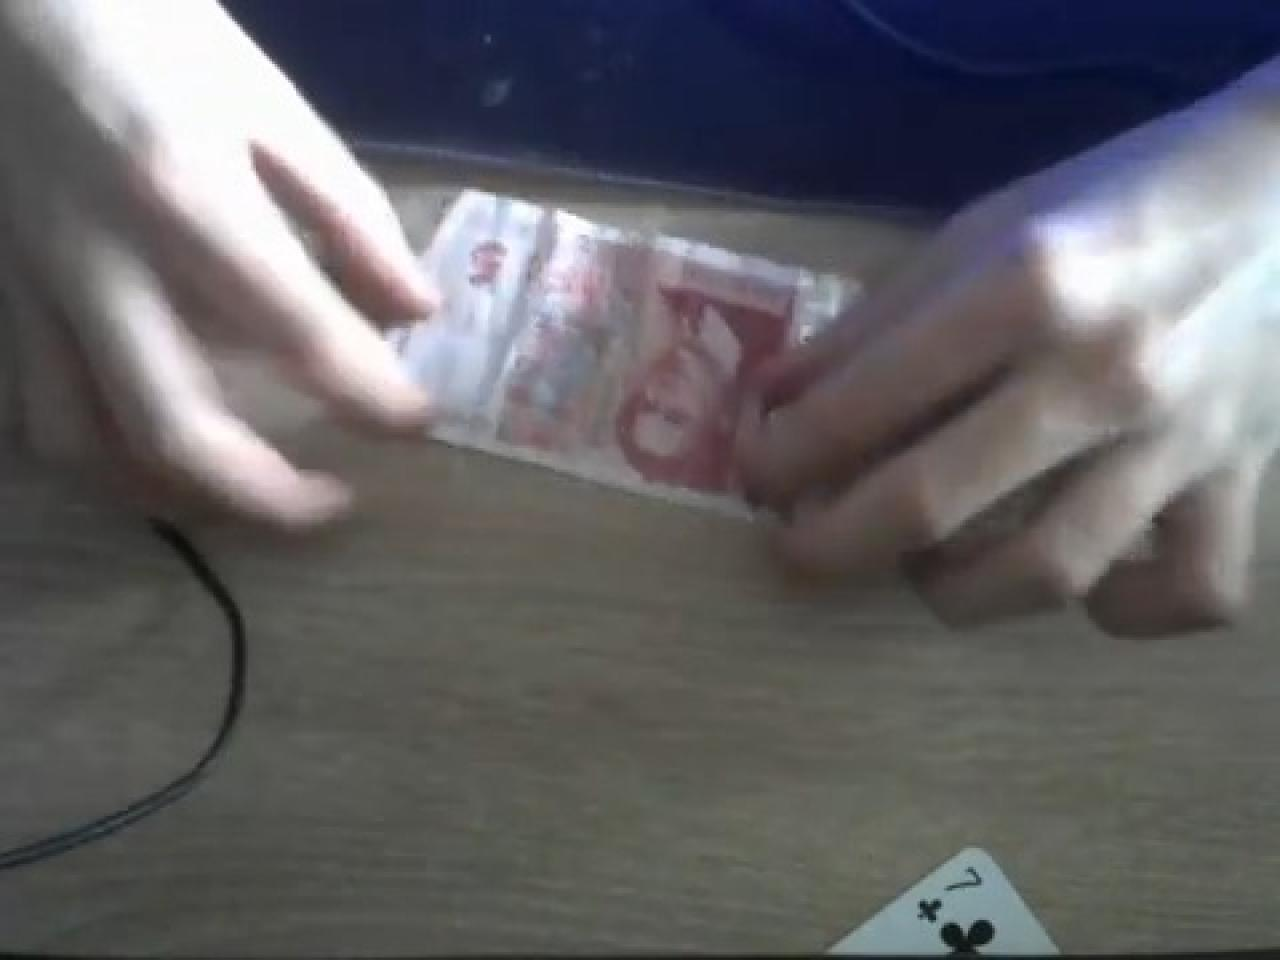5leva: (397, 190, 859, 517)
